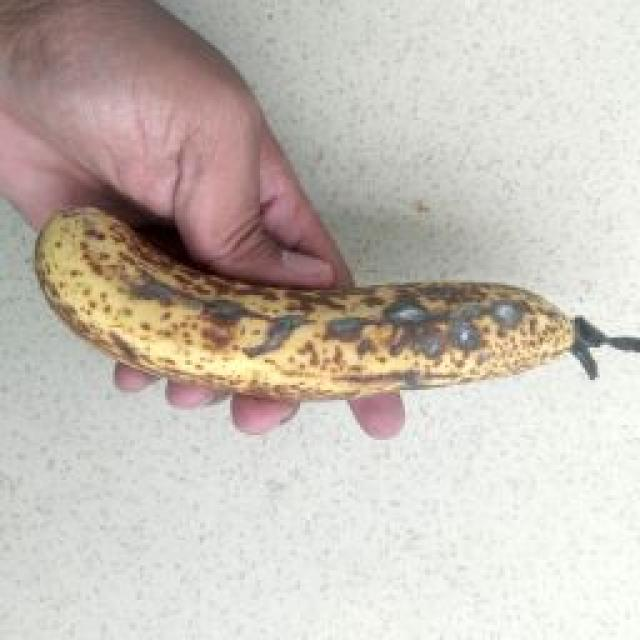banana: (5, 63, 517, 583)
